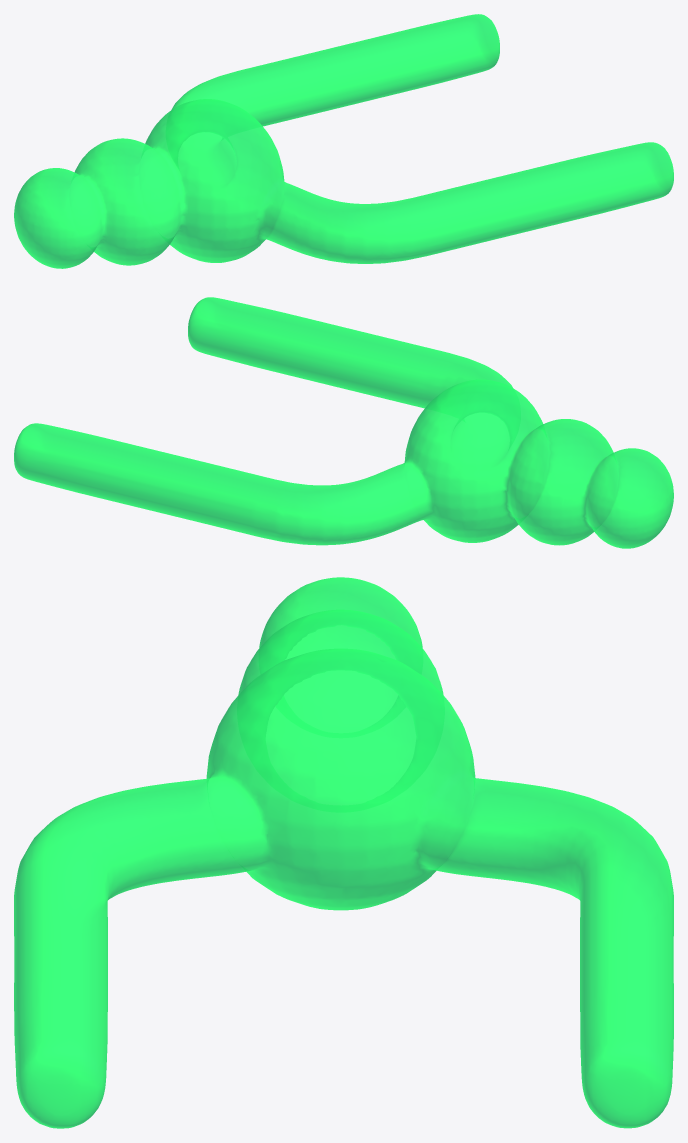
File: fusion protein fullbody.fbx
3 views of the same model, one above another, from view 1: azimuth 30°, elevation 25°; view 2: azimuth 150°, elevation 25°; view 3: azimuth 270°, elevation 25° (orthographic). The views are drawn at different scales.
Parts seen in each view (by area): view 1: BezierCurve.002; view 2: BezierCurve.002; view 3: BezierCurve.002.
Part boxes in pixels (<box>): BezierCurve.002: <box>14,14,673,268</box>; BezierCurve.002: <box>14,297,673,548</box>; BezierCurve.002: <box>14,577,673,1128</box>.
Size of the model in its own units: 485 by 124 by 305.
